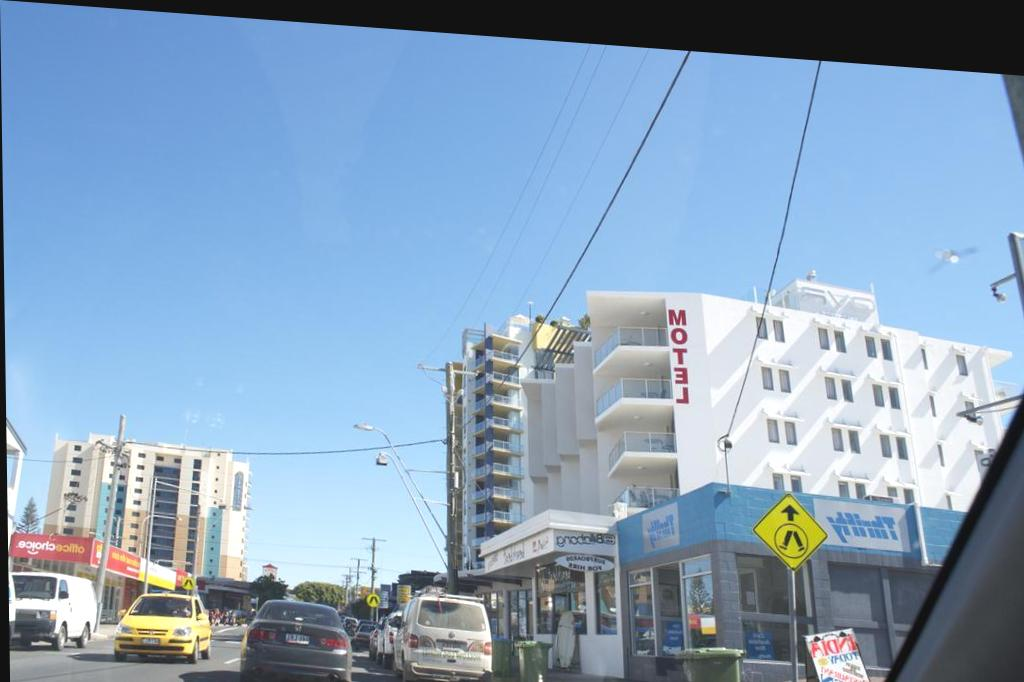License_Plate: (287, 633, 308, 641), (444, 641, 460, 650), (141, 638, 159, 642)
